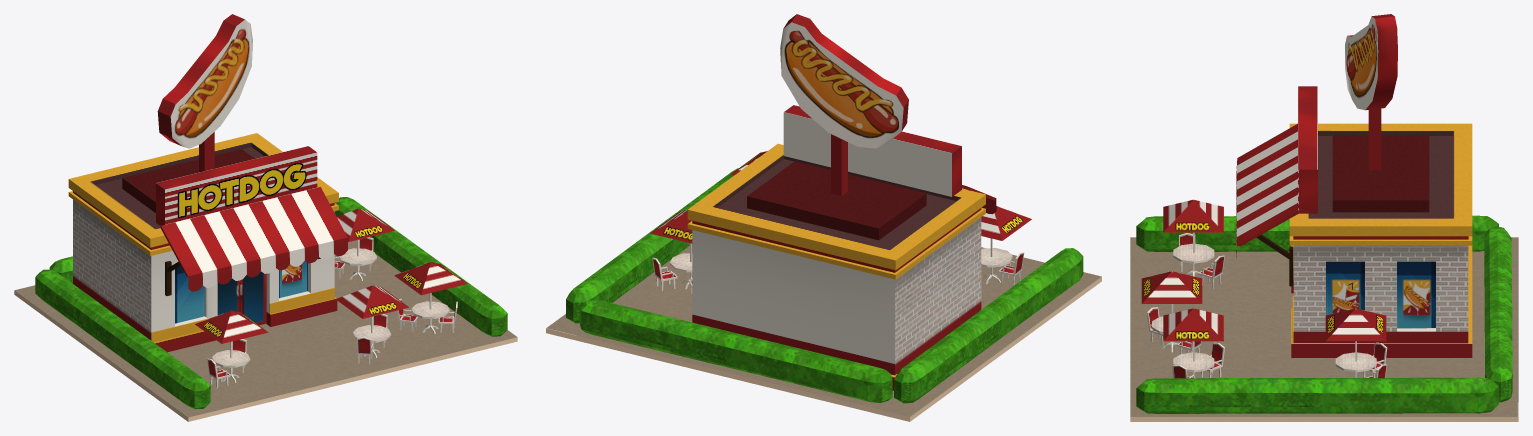
File: Tx_Exterior_Business_Hotdogshop_combined_20170731.fbx
The picture shows the model from 3 angles, left to right: view 1: azimuth 30°, elevation 25°; view 2: azimuth 150°, elevation 25°; view 3: azimuth 270°, elevation 25°; orthographic projection. The views are drawn at different scales.
Visible parts, largest first — view 1: Tx_hotdog; view 2: Tx_hotdog; view 3: Tx_hotdog.
Part boxes in pixels (x1=…): Tx_hotdog: x1=14, y1=14, x2=517, y2=421; Tx_hotdog: x1=546, y1=14, x2=1101, y2=421; Tx_hotdog: x1=1130, y1=14, x2=1518, y2=421.
Size of the model in its own units: 5.91 by 4.83 by 5.4.
1 material, 1 textured.
